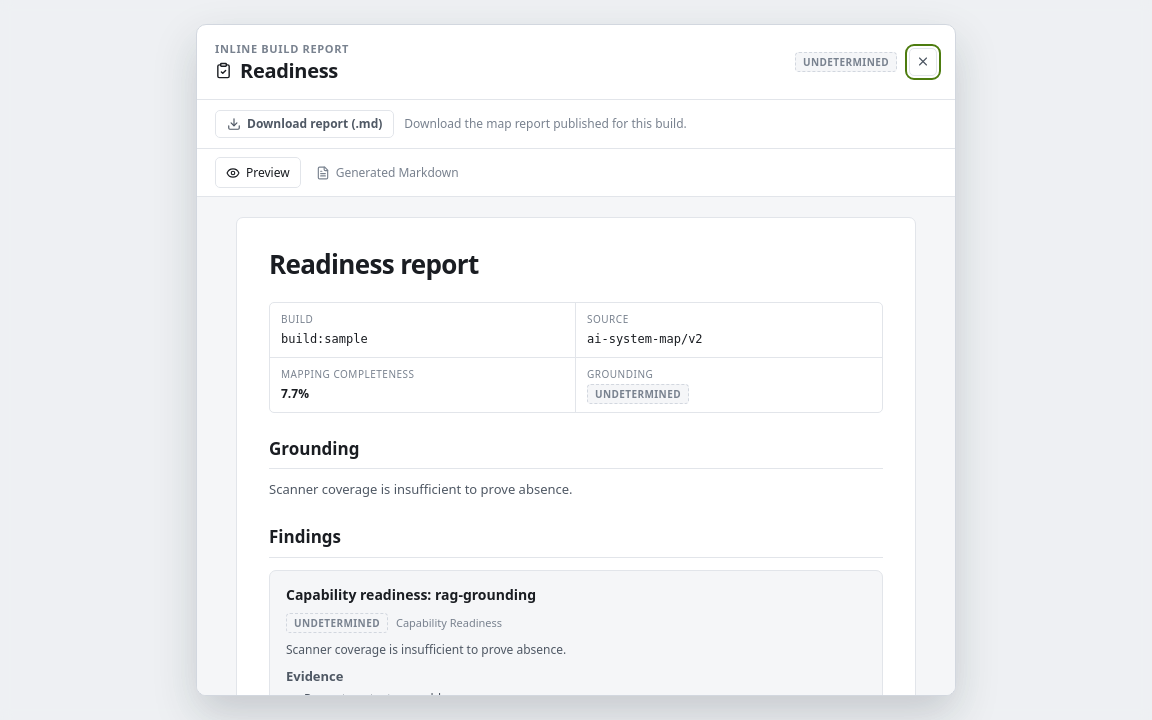
Test case: ReadinessPanel build report download › settles when the selected build did not publish a report
Click the button "Download report (.md)". click: (305,124)
box: [215,110,394,138]
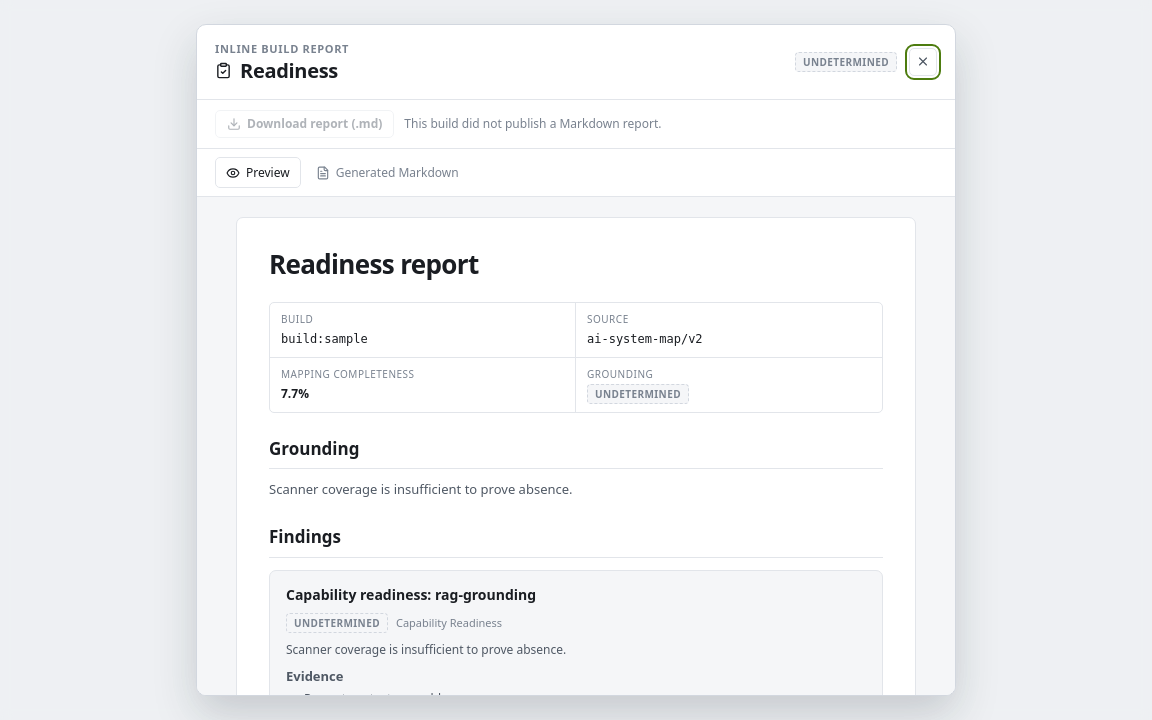
Now the text "This build did not publish a Markdown report." is shown, box [404,116,661,132]
Now the button "Download report (.md)" is disabled, box [215,110,394,138]
